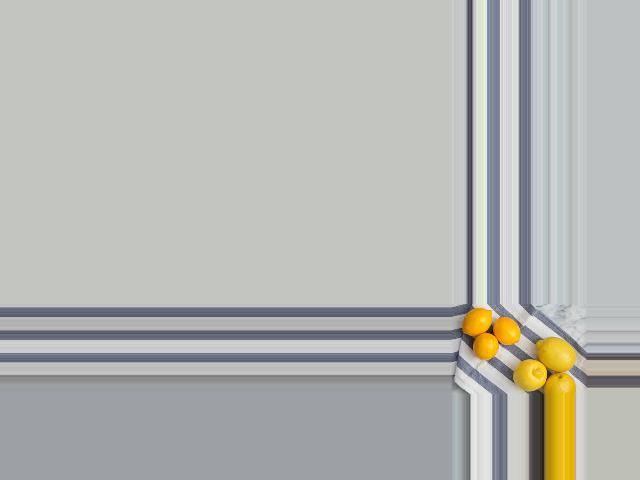lemon: (462, 307, 493, 335)
